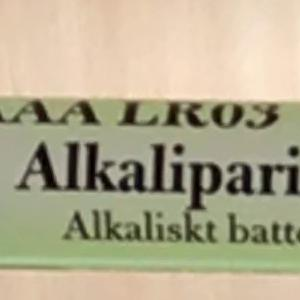ALK: (5, 131, 91, 201)
